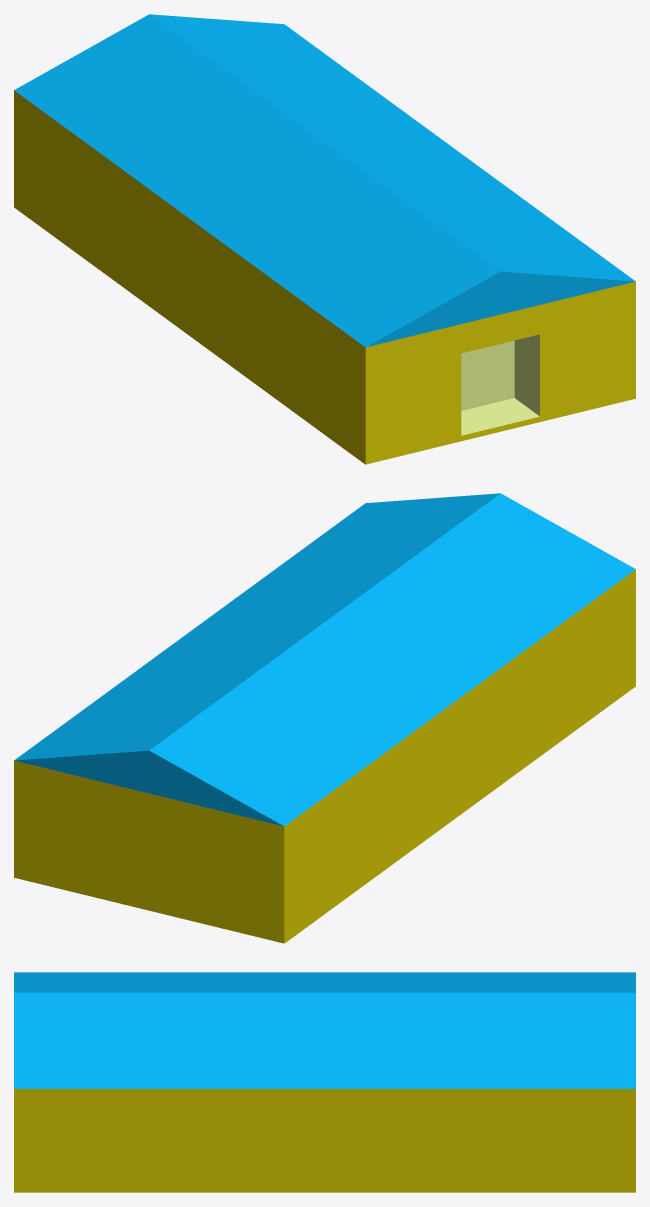
Rendered from garash.glb.
3 views of the same model, one above another, from view 1: azimuth 30°, elevation 25°; view 2: azimuth 150°, elevation 25°; view 3: azimuth 270°, elevation 25° (orthographic). The views are drawn at different scales.
Visible parts, largest first — view 1: Куб; view 2: Куб; view 3: Куб.
Part boxes in pixels (bbox=[...]): Куб: bbox=[14, 14, 635, 464]; Куб: bbox=[14, 493, 635, 943]; Куб: bbox=[14, 972, 635, 1192].
Bounding box in the file's own units: 4.68 × 2.65 × 10.53.
